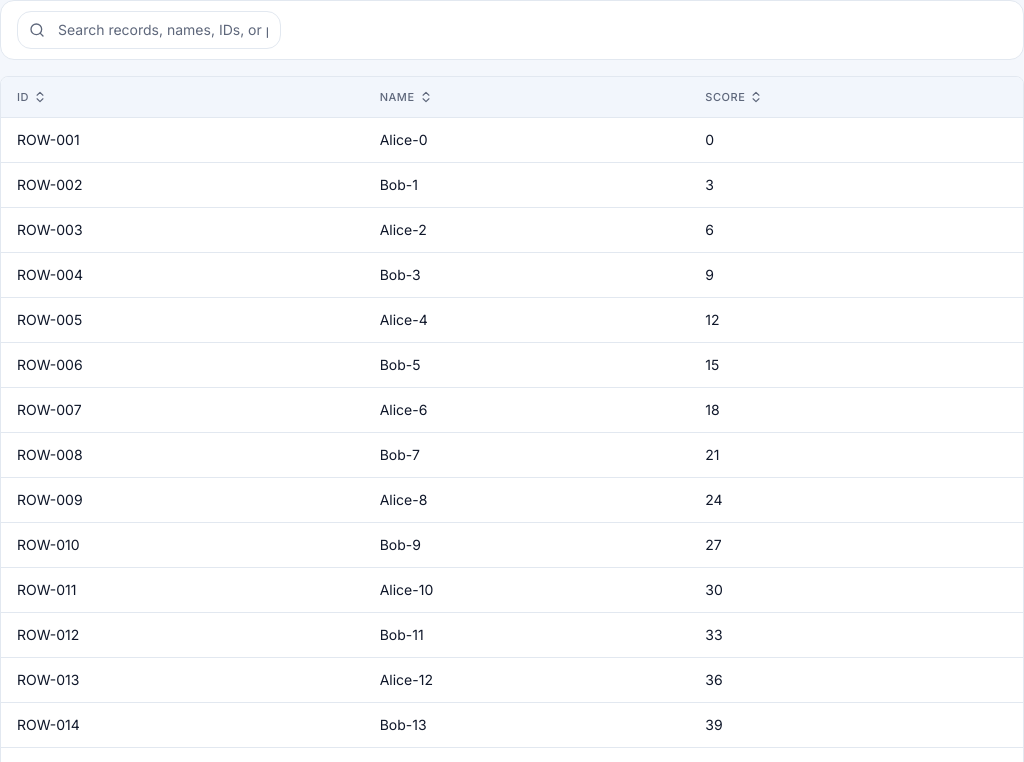
Test: DataTable sorting › sorts descending on second click
Click the text "Score".
click(734, 97)  # box top-left (705, 90), bottom-right (763, 104)
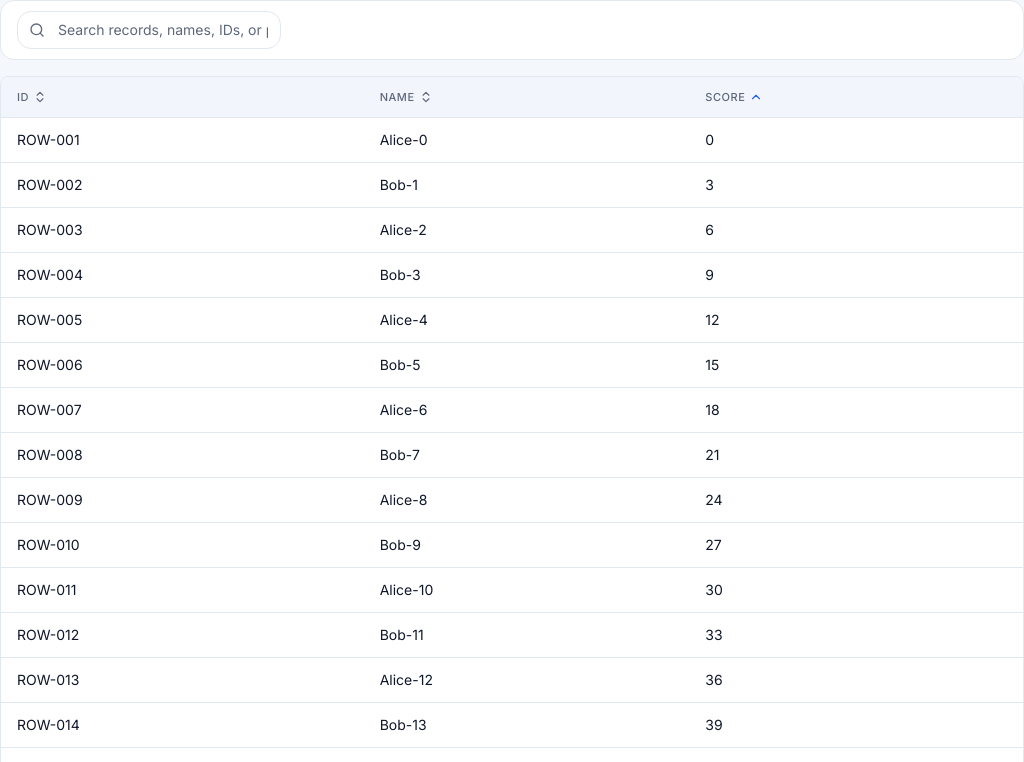
Click the text "Score".
click(734, 97)  # box top-left (705, 90), bottom-right (763, 104)
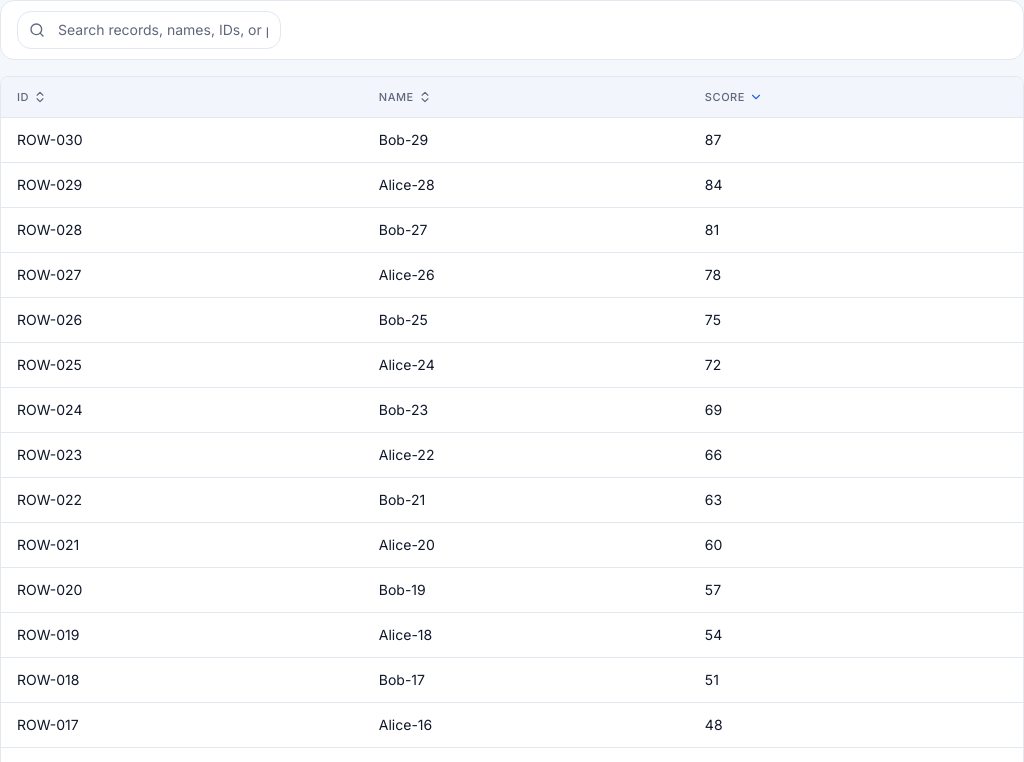
expect the text "87" is shown: met, box top-left (689, 118), bottom-right (1023, 162)
